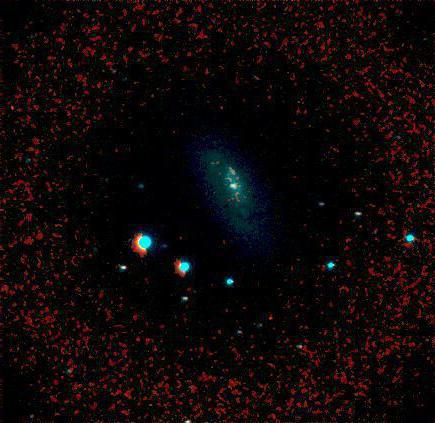star: (256, 301, 286, 331)
